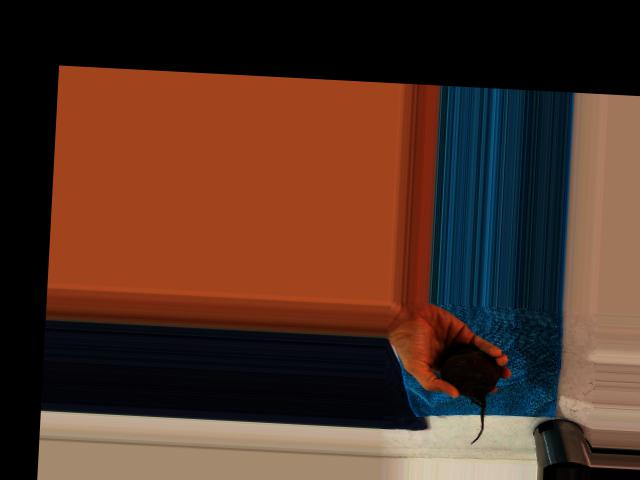beet: (437, 341, 502, 444)
